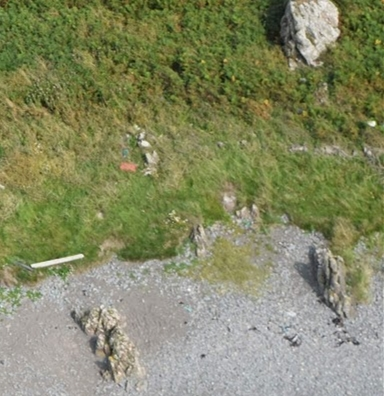straight_bar: (27, 247, 91, 276)
white_in_green: (104, 145, 152, 186)
